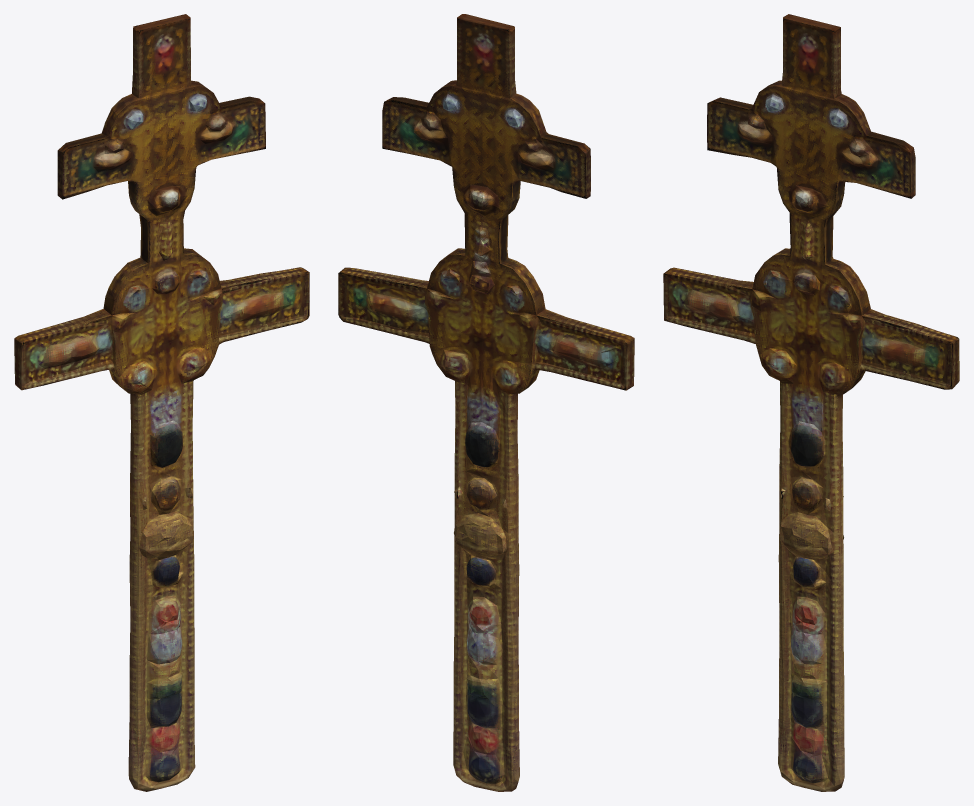
Rendered from sample.glb.
3 views of the same model, side by side, from view 1: azimuth 30°, elevation 25°; view 2: azimuth 150°, elevation 25°; view 3: azimuth 330°, elevation 25° (orthographic).
Parts seen in each view (by area): view 1: world; view 2: world; view 3: world.
Boxes of the visible parts, <box> form: world: <box>14,14,309,791</box>; world: <box>338,14,634,791</box>; world: <box>663,14,959,791</box>.
Size of the model in its own units: 0.3965 by 1 by 0.0494.
1 material, 1 textured.
